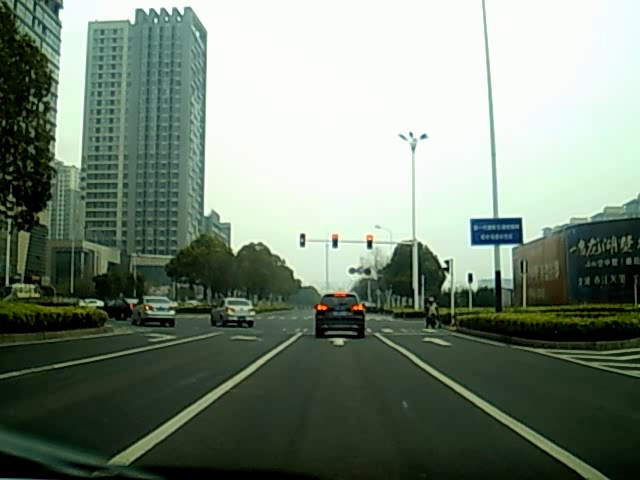Traffic_Light_stop: (332, 235, 340, 250), (367, 236, 374, 250)
